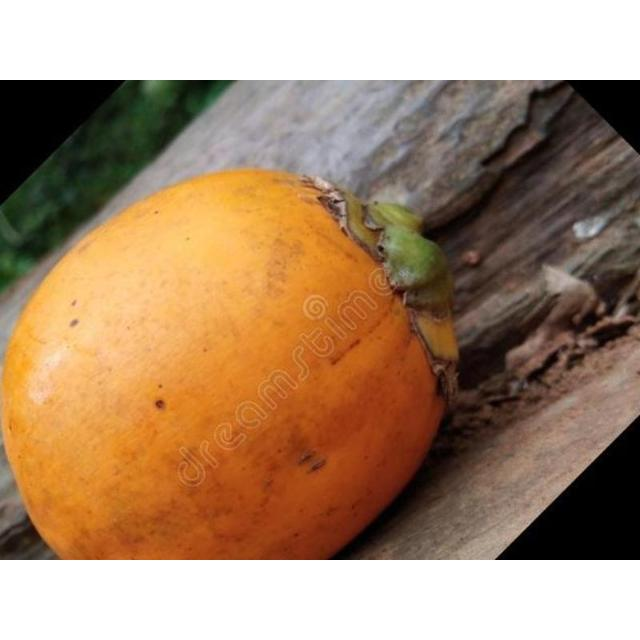good: (0, 168, 458, 559)
